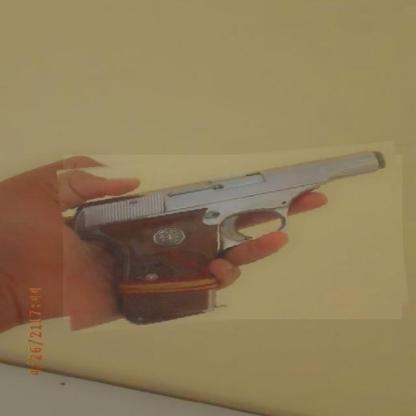handgun: (59, 147, 406, 326)
